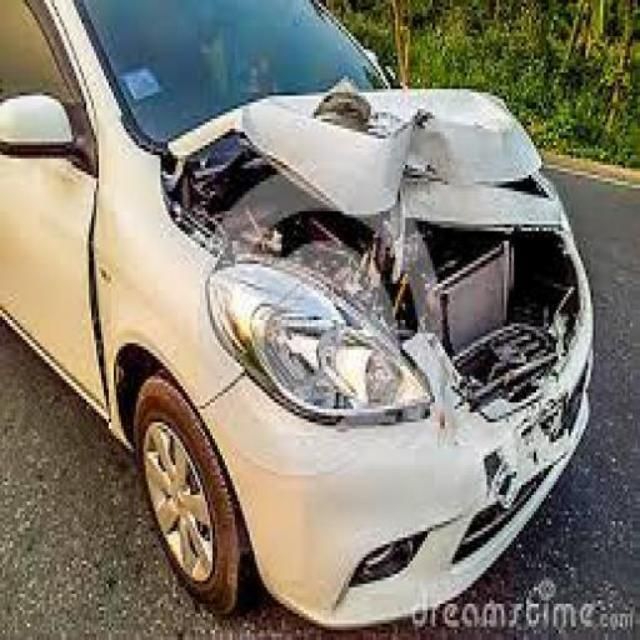dislocated part: (161, 89, 592, 500)
